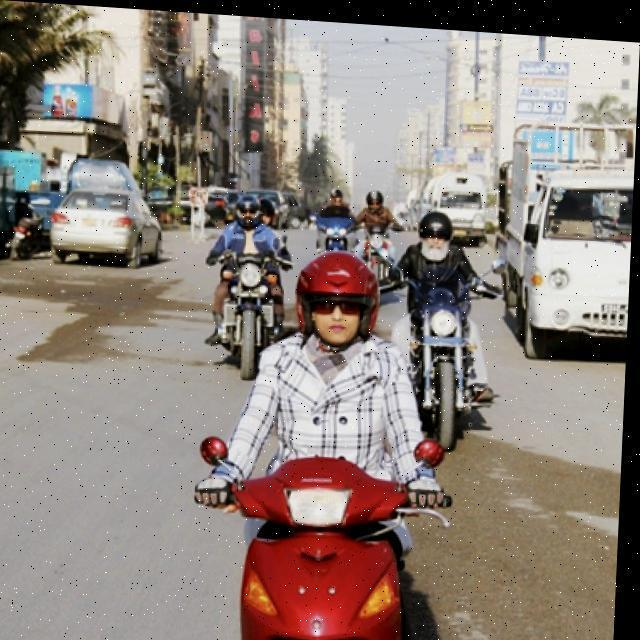Helmet: (292, 246, 388, 340), (413, 200, 461, 254), (232, 184, 272, 228), (364, 176, 392, 212)
